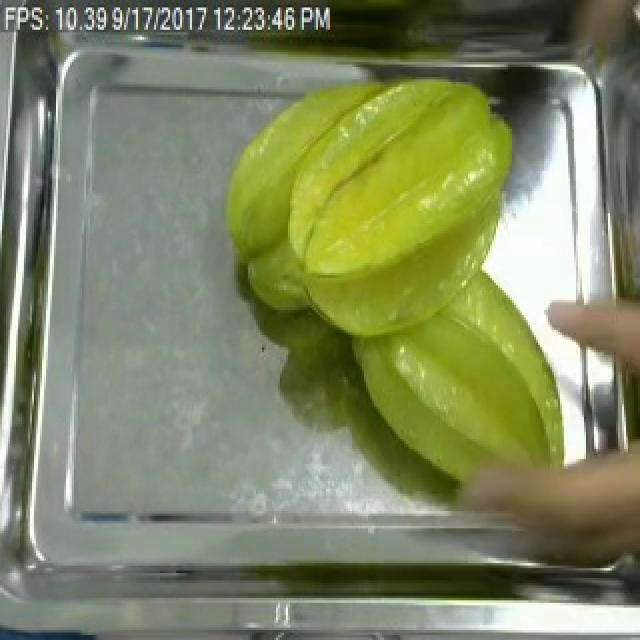fruit: (272, 67, 522, 350), (336, 266, 582, 504)
